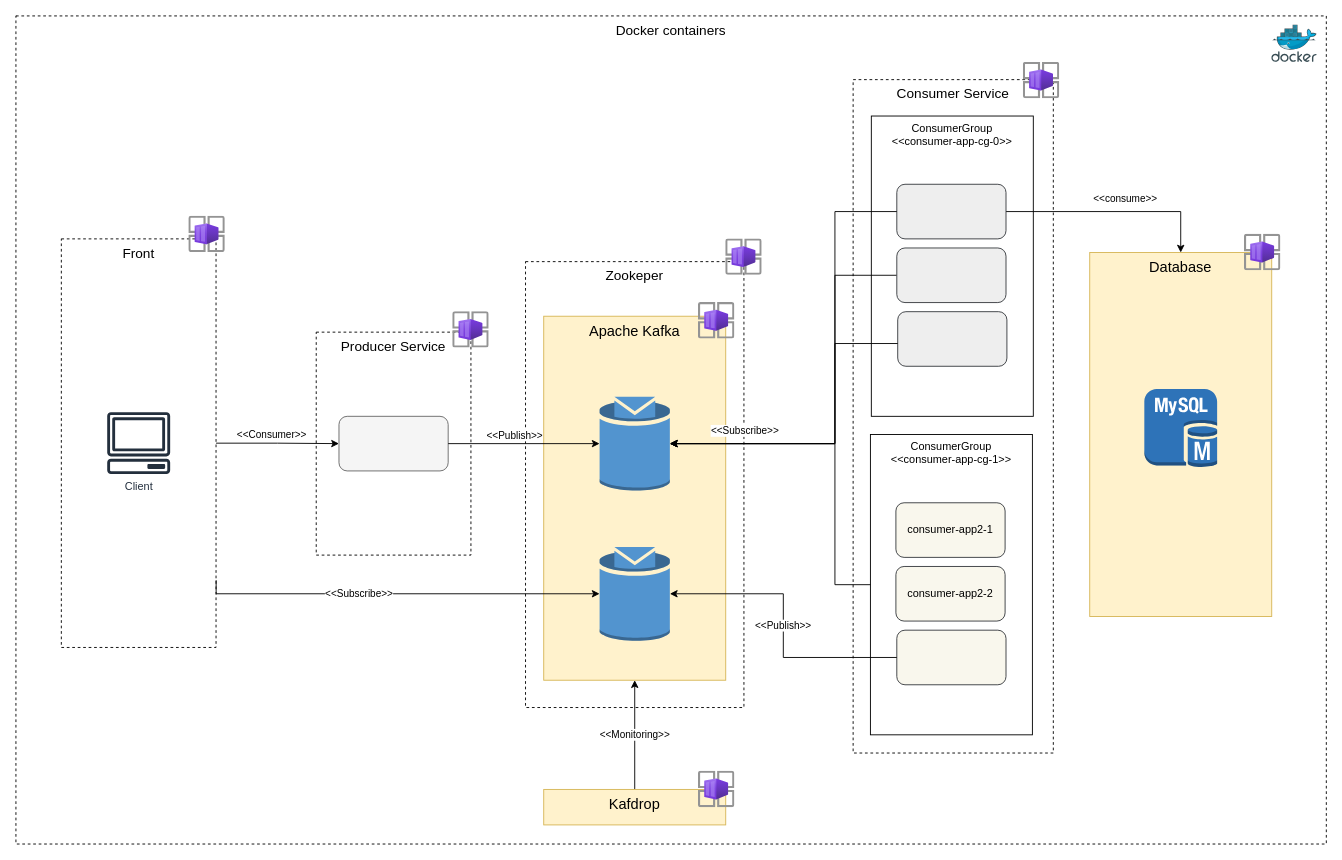
The diagram is 1342 pixels wide and 860 high, and some of its shapes have lost their labels. The shapes that lost their labels are listed below. From the top down, each one's centre as x and y in pixels, then its label:
At pixel 951 211: "consumer-app1-1".
At pixel 951 275: "consumer-app1-2".
At pixel 952 338: "consumer-app1-3".
At pixel 393 443: "producer-app".
At pixel 634 443: "Topico A".
At pixel 634 593: "Topico B".
At pixel 951 657: "consumer-app2-3".
